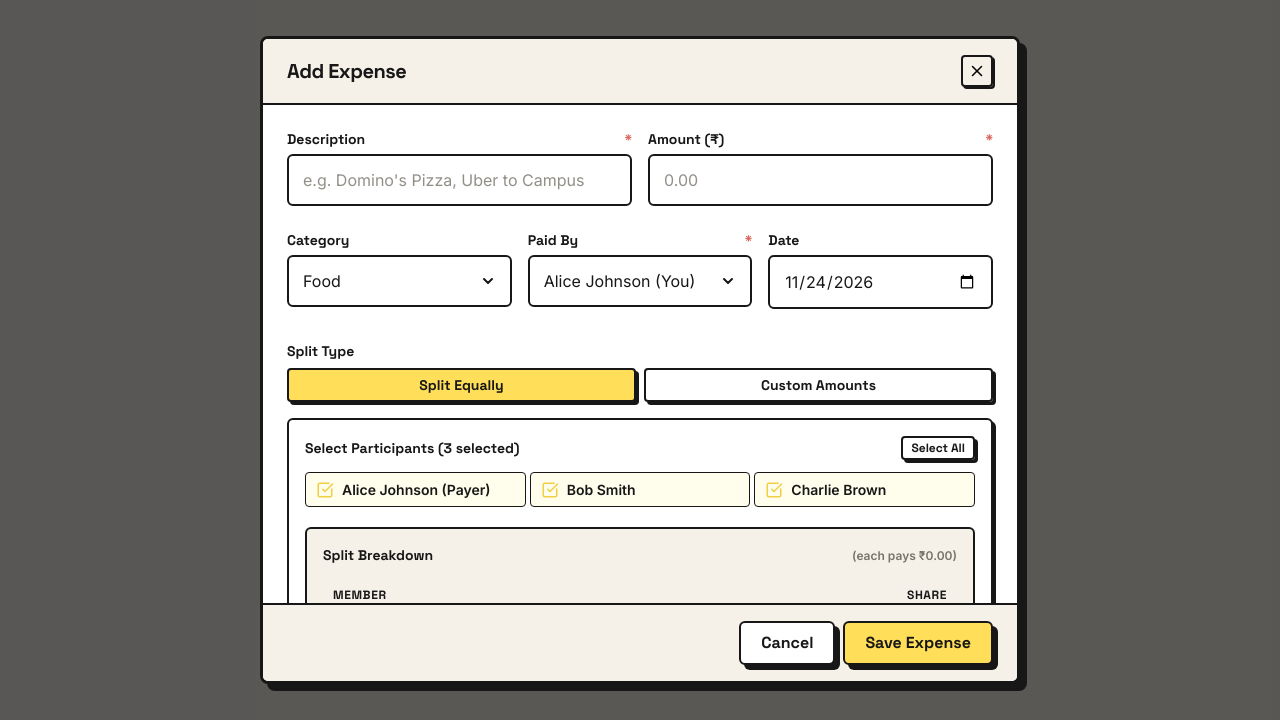
Scenario: Expense Components › AddExpenseModal Component › validates equal split requires at least 2 members
The width and height of the screenshot is (1280, 720).
Step 1. Type "Late Night Biryani" into the field with placeholder "e.g. Domino's Pizza, Uber to Campus" → x=460, y=180, box [287,154,632,206]
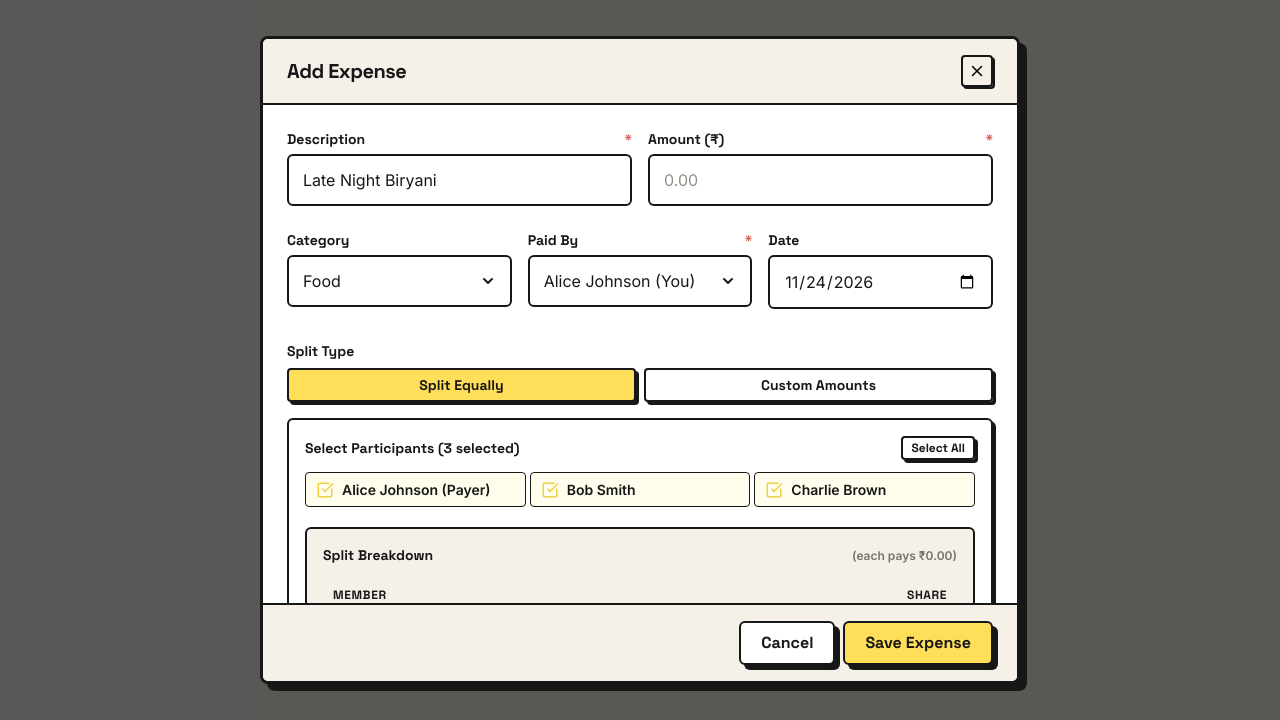
Step 2. Type "300" into the number field with placeholder "0.00" → x=820, y=180, box [648,154,993,206]
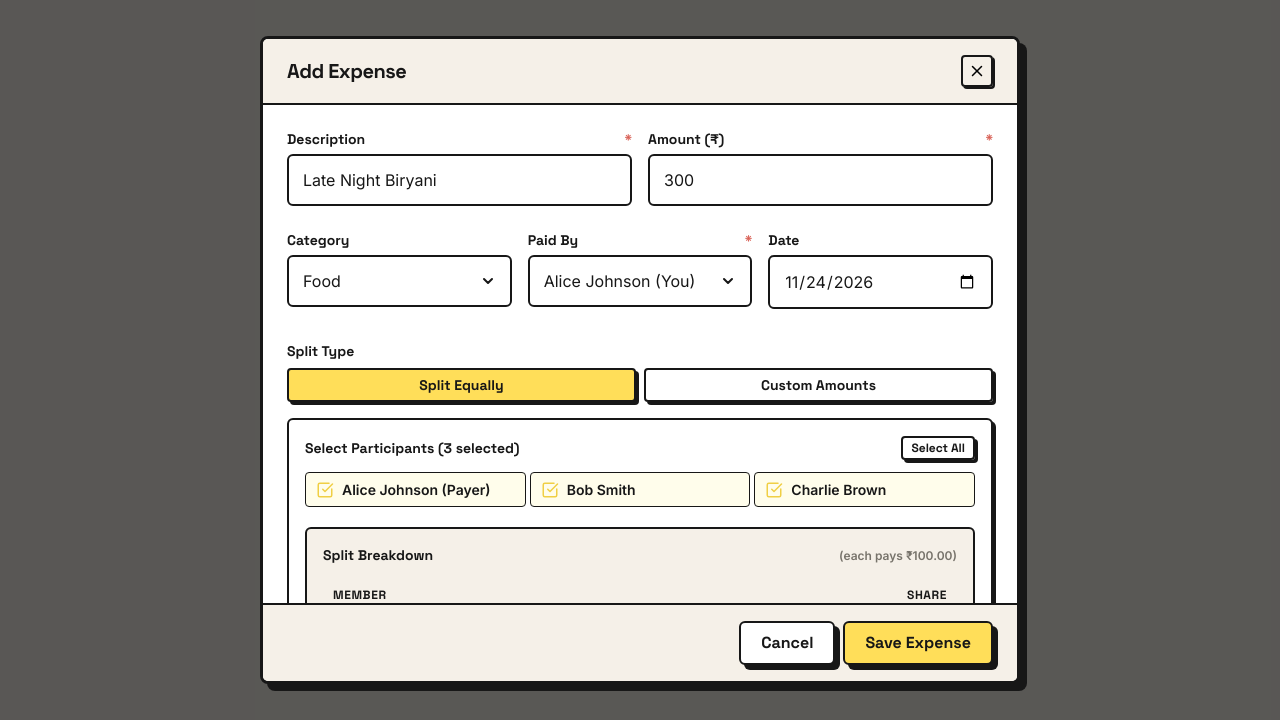
Deselect 2 of the 3 members so only 1 remains
Step 3. Click the checkbox labelled "Bob Smith" → x=640, y=490, box [530,472,750,507]
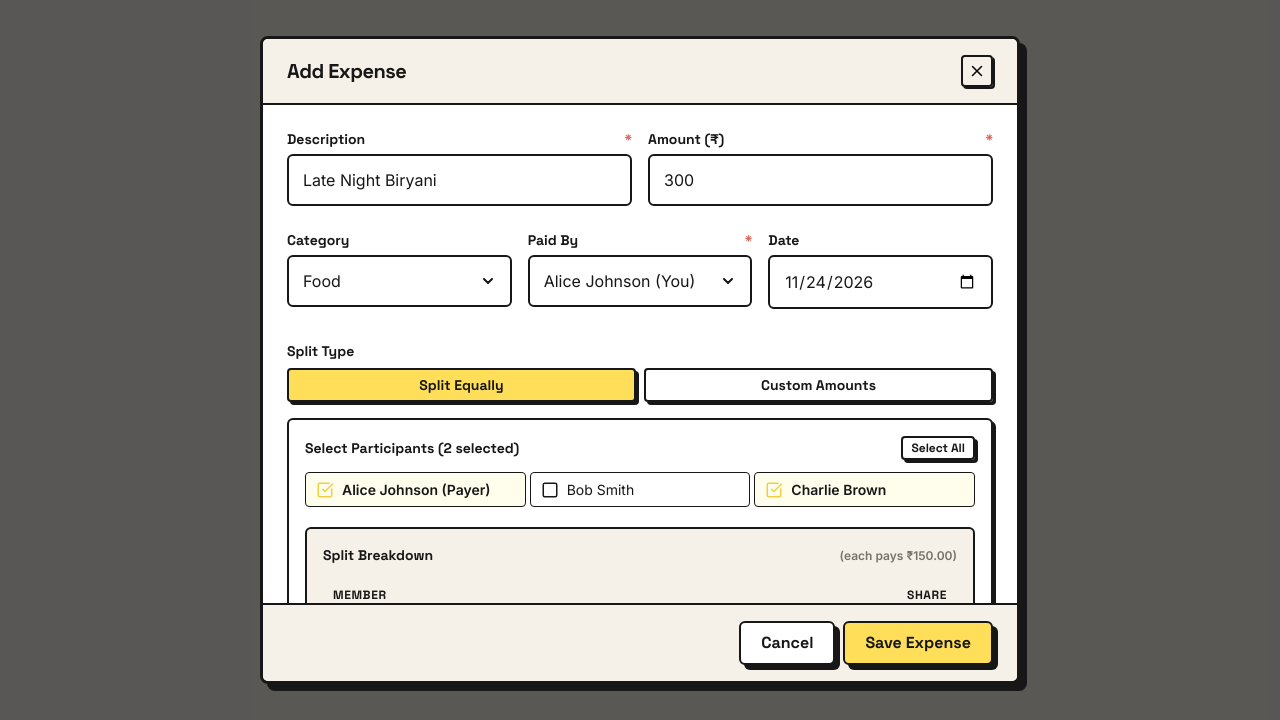
Step 4. Click the checkbox labelled "Charlie Brown" → x=865, y=490, box [754,472,975,507]
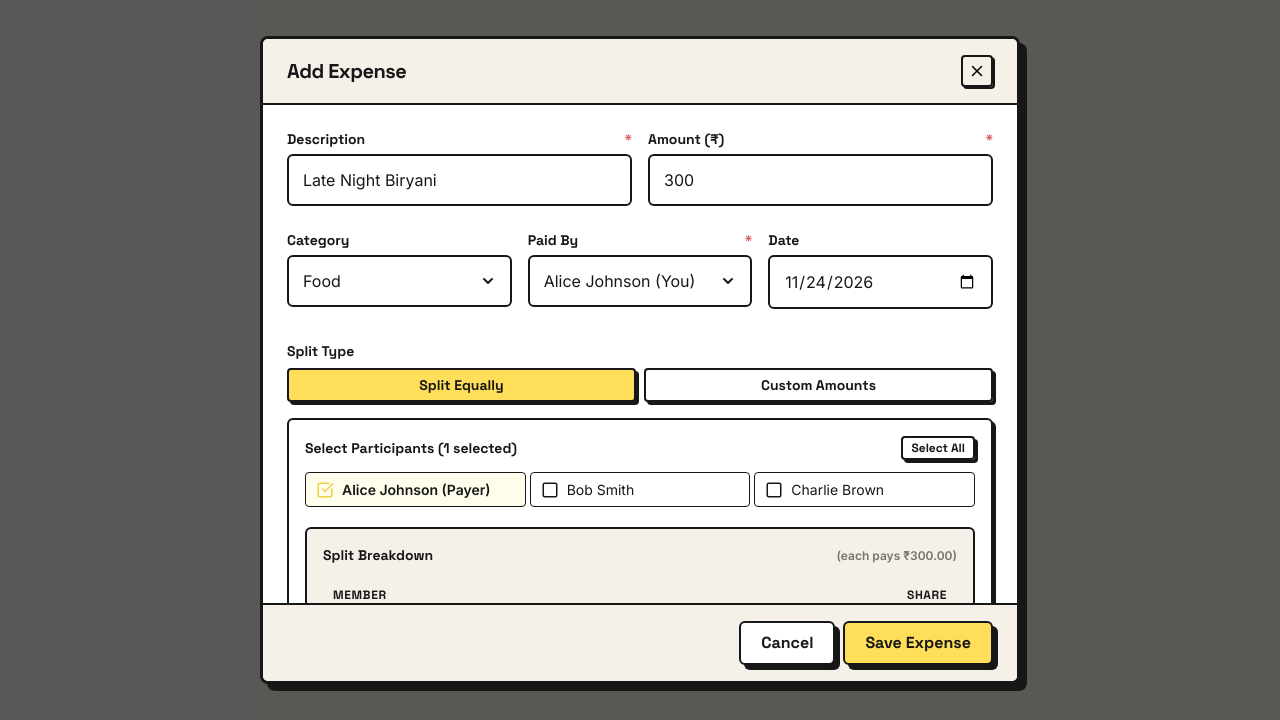
Step 5. Click the button "Save Expense" → x=918, y=643, box [843,621,993,665]
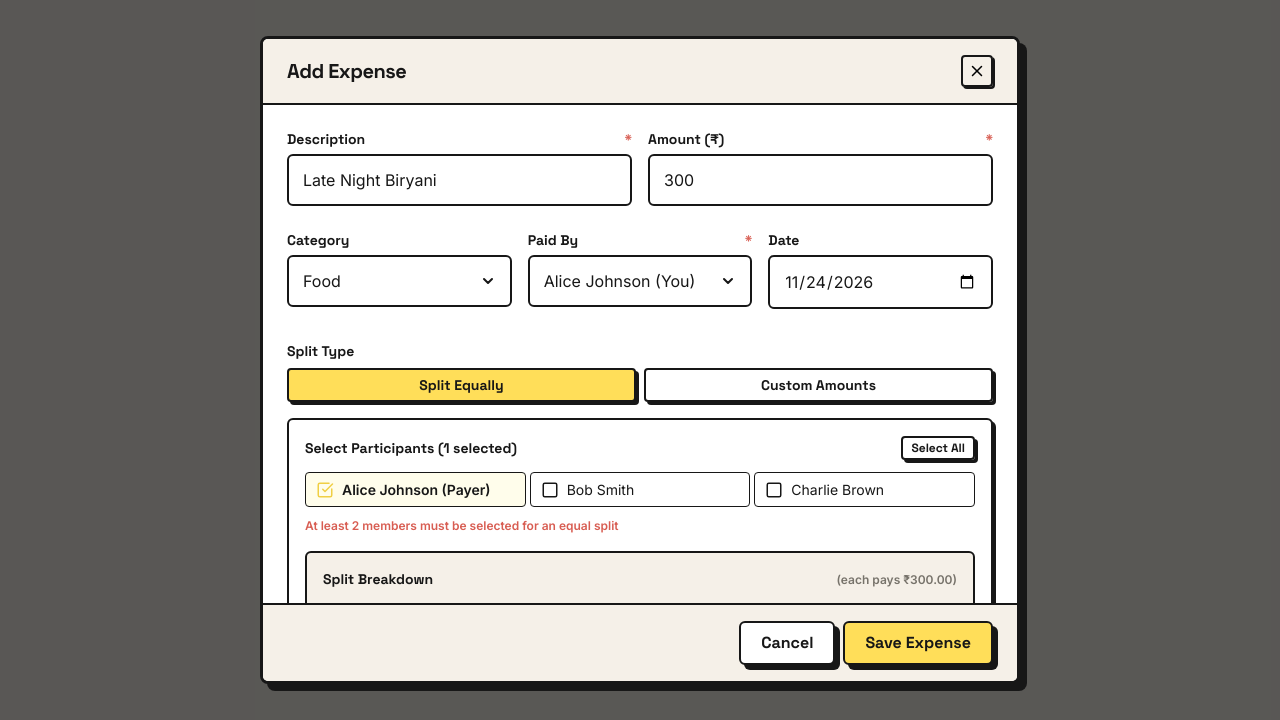
Check: the text "At least 2 members must be selected for an equal split" is shown, box [305,518,618,533]
